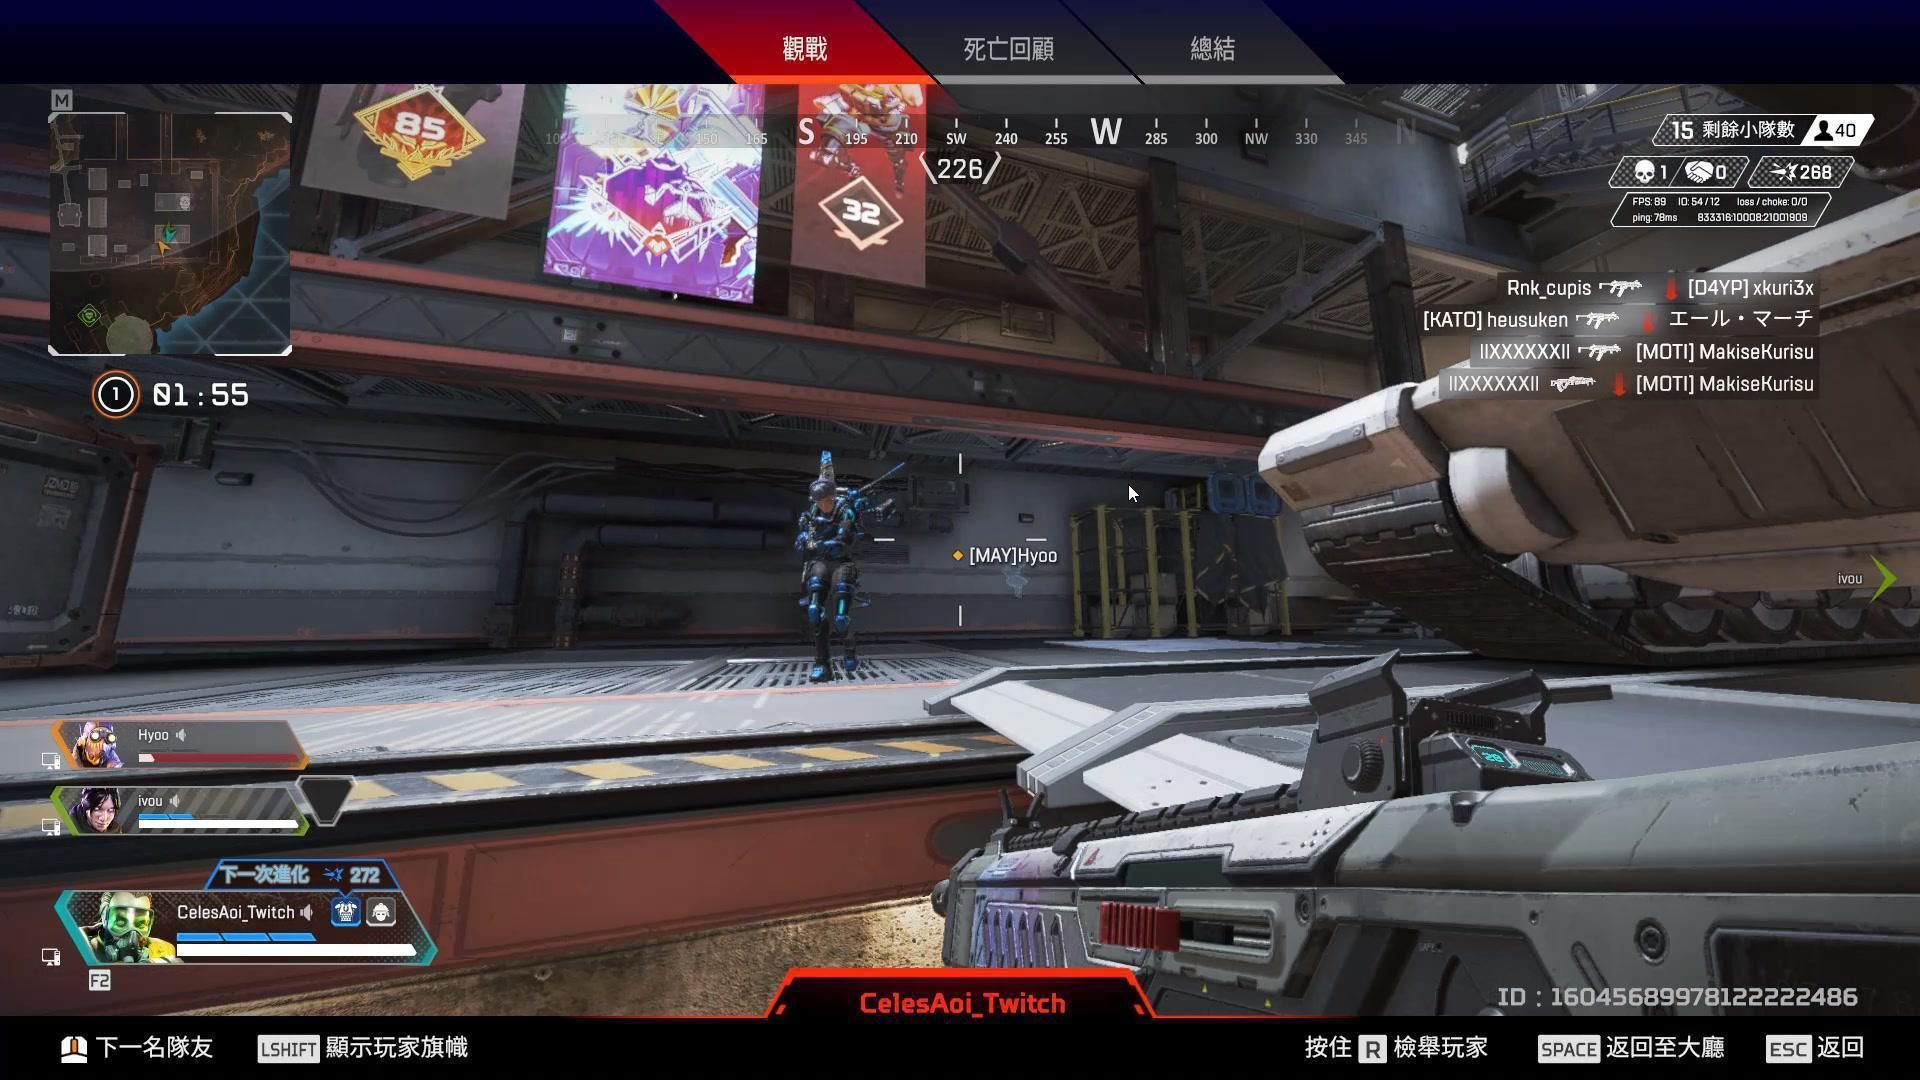avatar: (799, 478, 868, 685)
